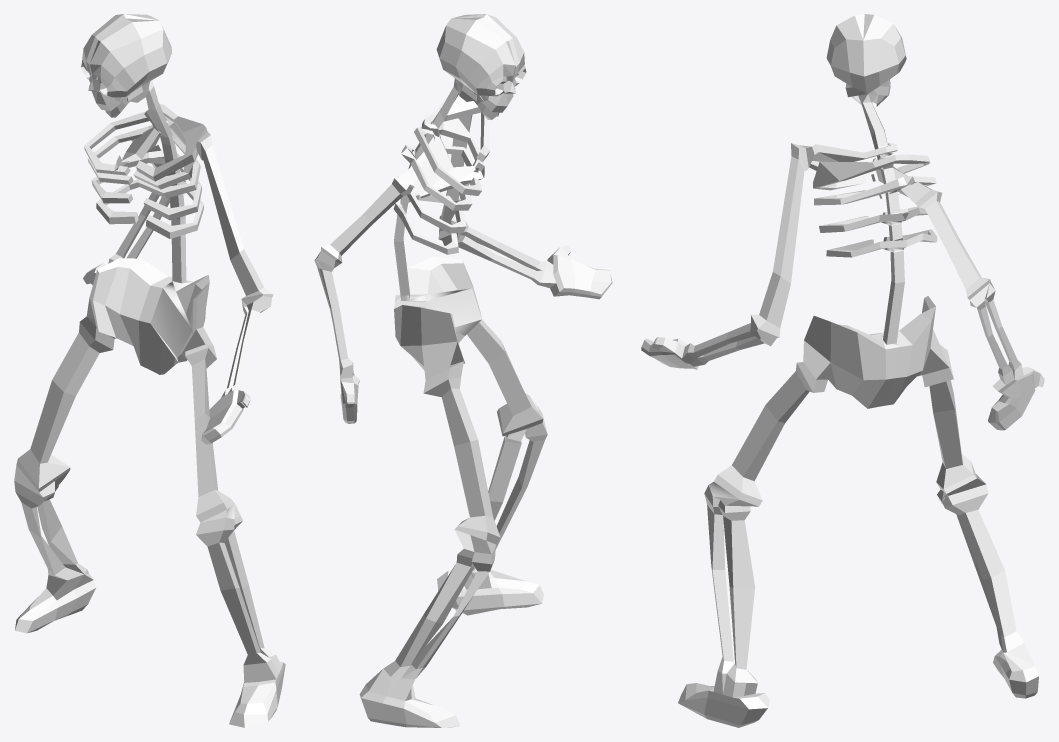
File: SkeletonIdle(87).obj
3 views of the same model, side by side, from view 1: azimuth 30°, elevation 25°; view 2: azimuth 150°, elevation 25°; view 3: azimuth 270°, elevation 25° (orthographic). The views are drawn at different scales.
Parts seen in each view (by area): view 1: Object002; view 2: Object002; view 3: Object002.
Part boxes in pixels (left/top/right/bottom): Object002: left=14, top=14, right=285, bottom=727; Object002: left=314, top=14, right=612, bottom=727; Object002: left=641, top=14, right=1044, bottom=727.
Size of the model in its own units: 317 by 1134 by 619.
